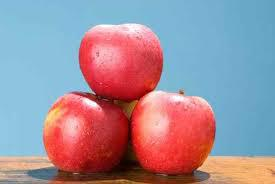apple: (131, 87, 216, 172), (79, 21, 164, 98), (43, 94, 128, 168)
